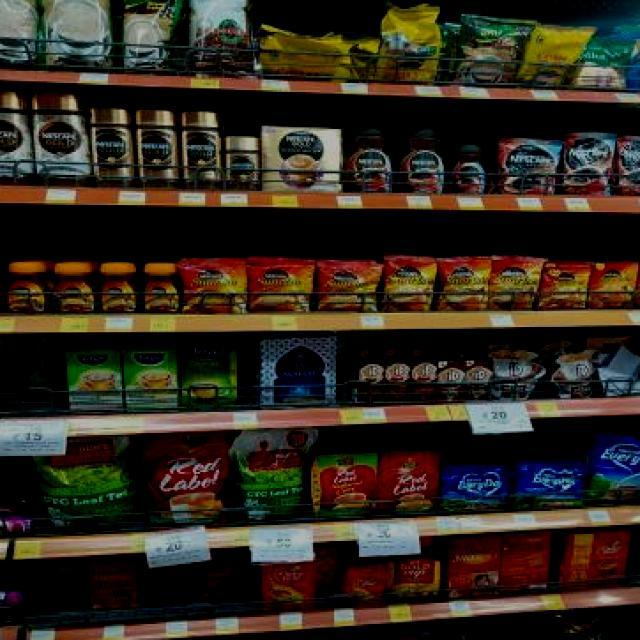Coffee: (35, 90, 91, 184), (395, 125, 447, 193), (134, 110, 178, 190), (177, 112, 221, 190), (344, 125, 394, 192), (92, 110, 136, 186), (182, 261, 245, 314), (248, 260, 310, 312), (498, 141, 557, 195), (320, 261, 378, 312), (564, 136, 612, 196), (383, 258, 434, 310), (0, 86, 28, 180), (440, 258, 490, 310), (490, 257, 538, 309), (51, 263, 94, 313), (5, 262, 46, 312), (97, 264, 138, 312), (446, 146, 486, 193), (140, 263, 178, 312), (228, 136, 260, 189), (617, 138, 640, 196)
